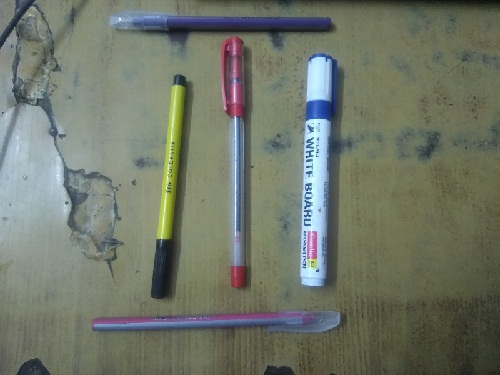pen: (145, 70, 200, 303), (300, 49, 341, 291), (217, 38, 254, 291), (87, 303, 348, 336), (101, 8, 336, 36)
